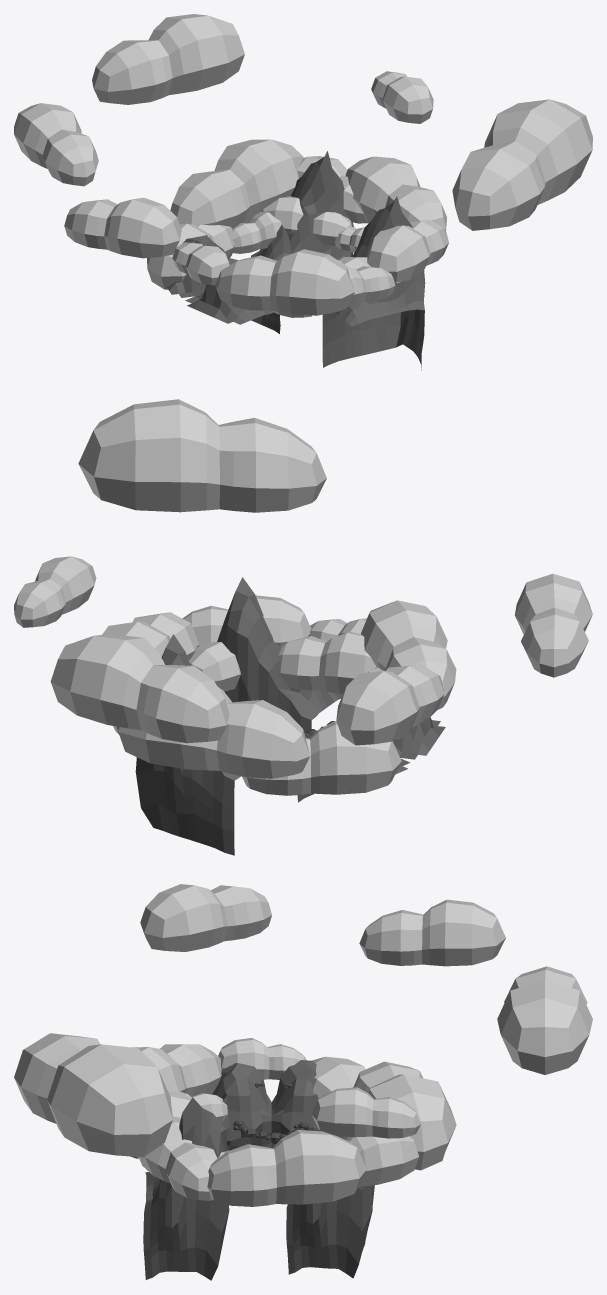
File: MAPBACKGORUND.fbx
The picture shows the model from 3 angles, top to bottom: view 1: azimuth 30°, elevation 25°; view 2: azimuth 150°, elevation 25°; view 3: azimuth 270°, elevation 25°; orthographic projection. The views are drawn at different scales.
Visible parts, largest first — view 1: Piedra 3.009; view 2: Piedra 3.009; view 3: Piedra 3.009.
Boxes of the visible parts, left/top/right/bottom form: Piedra 3.009: left=14, top=14, right=592, bottom=370; Piedra 3.009: left=14, top=399, right=592, bottom=855; Piedra 3.009: left=14, top=884, right=592, bottom=1280.
Size of the model in its own units: 62358 by 32503 by 59613.
